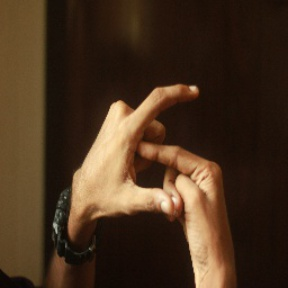E: (115, 67, 226, 220)
